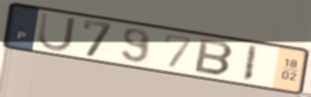7: (81, 17, 116, 59), (162, 32, 194, 71)
9: (121, 26, 153, 65)
B: (192, 36, 236, 77)
I: (240, 43, 260, 84)
U: (36, 11, 78, 53)
